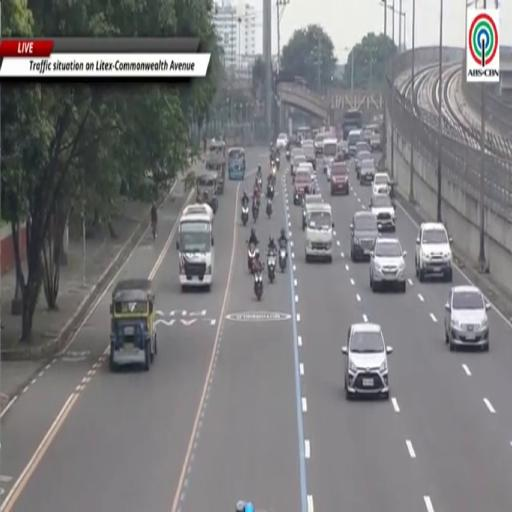bus: (343, 110, 362, 139)
car: (342, 324, 392, 398), (445, 285, 490, 350), (415, 222, 452, 282), (370, 238, 406, 292), (350, 211, 378, 261), (369, 195, 395, 231), (303, 194, 323, 230), (294, 169, 313, 205), (331, 163, 349, 195), (355, 150, 372, 180), (323, 138, 337, 171), (359, 158, 376, 184), (373, 172, 390, 194), (303, 141, 316, 169), (291, 153, 306, 175), (314, 133, 327, 158), (348, 130, 361, 155), (297, 163, 315, 180), (355, 140, 371, 155), (370, 132, 381, 151), (276, 133, 288, 149), (362, 128, 372, 147), (291, 147, 303, 161), (326, 168, 331, 182)
jeepney: (110, 279, 157, 371), (206, 140, 226, 195), (197, 171, 218, 213), (228, 148, 245, 180)
motorcycle: (254, 272, 263, 300), (267, 252, 275, 282), (279, 247, 287, 273), (248, 245, 255, 273), (242, 204, 248, 226), (252, 202, 258, 222), (266, 199, 272, 218), (267, 183, 274, 199), (256, 176, 262, 188), (286, 150, 290, 162), (276, 157, 279, 170)
truck: (177, 205, 214, 291), (305, 203, 333, 262)
